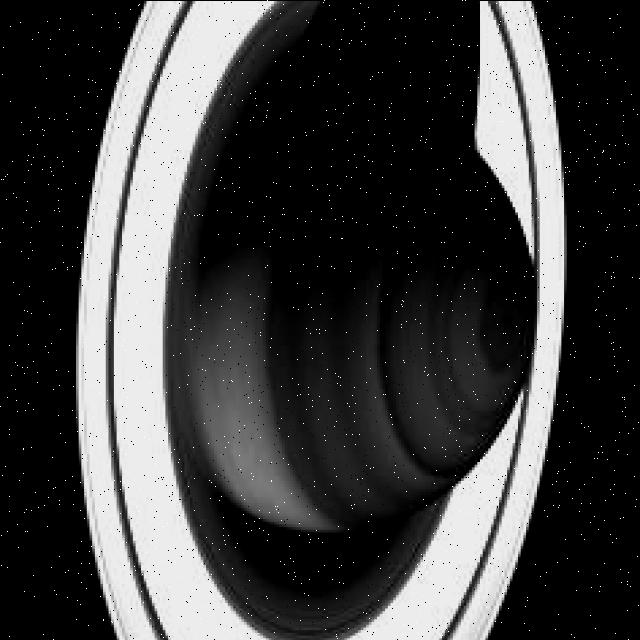Saturn: (73, 0, 564, 640)
